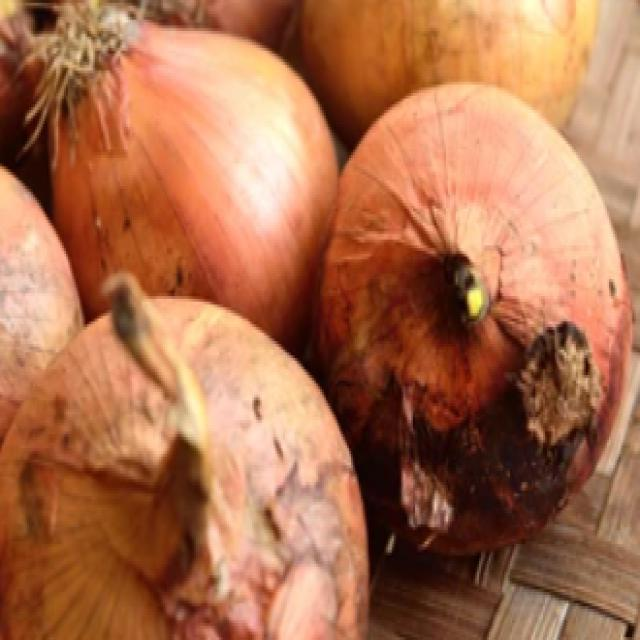rotten: (388, 392, 576, 542), (496, 313, 600, 477)
